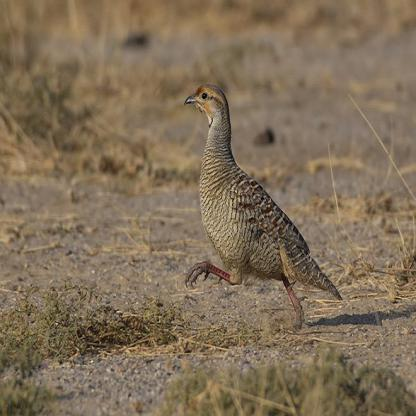Burung: (183, 84, 342, 332)
